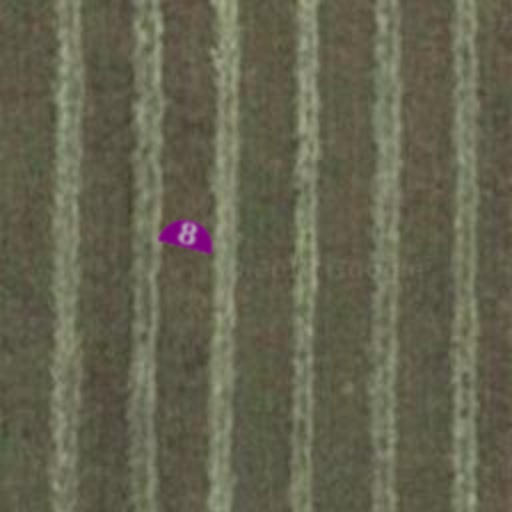semicircle: (152, 198, 224, 270)
